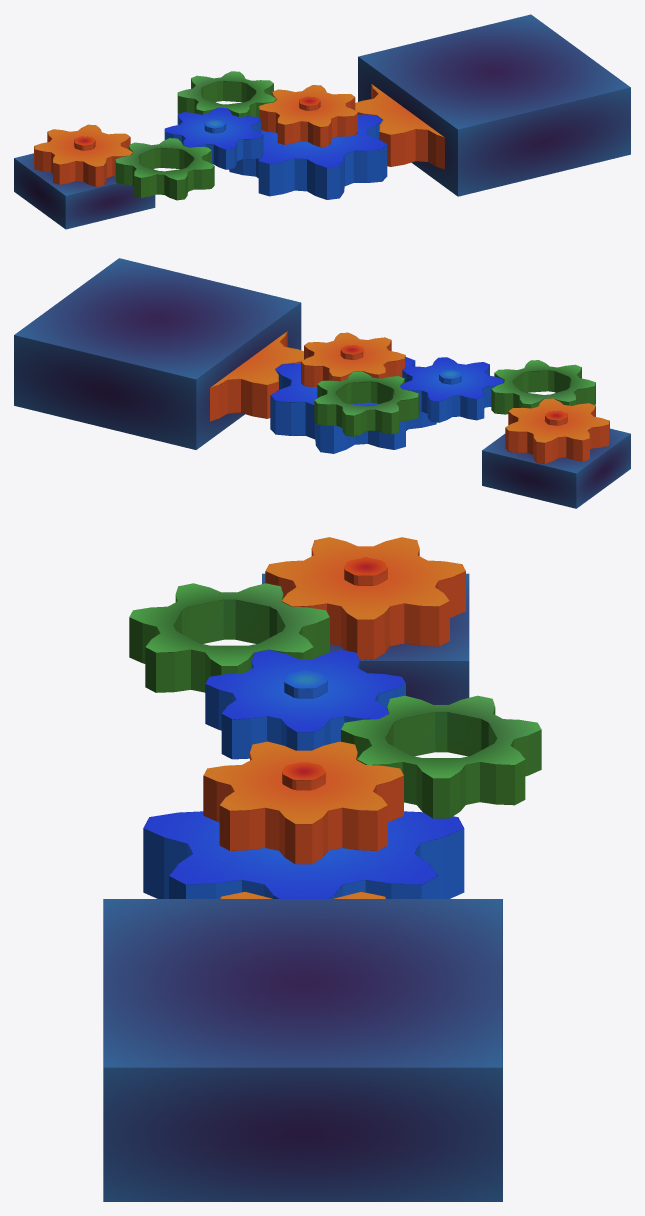
The model's file is gear_scene2.gltf.
The picture shows the model from 3 angles, top to bottom: view 1: azimuth 30°, elevation 25°; view 2: azimuth 150°, elevation 25°; view 3: azimuth 270°, elevation 25°; orthographic projection. The views are drawn at different scales.
Visible parts, largest first — view 1: box_input, gear6_r, box_output, gear5_r, gear2_l, gear1_r, gear3_r, gear7_l, gear4_l; view 2: box_input, box_output, gear1_r, gear4_l, gear6_r, gear3_r, gear7_l, gear5_r, gear2_l; view 3: box_input, gear6_r, gear5_r, gear1_r, gear4_l, gear2_l, gear3_r, box_output.
Boxes of the visible parts, x1,y1,x2,y2 form: box_input: [358, 14, 630, 196]; gear6_r: [229, 114, 387, 199]; box_output: [14, 153, 155, 229]; gear5_r: [259, 85, 357, 147]; gear2_l: [115, 138, 214, 200]; gear1_r: [34, 124, 133, 186]; gear3_r: [164, 107, 263, 169]; gear7_l: [355, 84, 444, 169]; gear4_l: [177, 71, 276, 117]; box_input: [14, 258, 301, 449]; box_output: [482, 428, 630, 508]; gear1_r: [505, 398, 609, 463]; gear4_l: [314, 371, 418, 436]; gear6_r: [270, 357, 436, 453]; gear3_r: [400, 357, 503, 422]; gear7_l: [210, 331, 303, 421]; gear5_r: [301, 332, 405, 386]; gear2_l: [491, 360, 595, 414]; box_input: [103, 899, 502, 1201]; gear6_r: [143, 811, 464, 898]; gear5_r: [203, 741, 403, 864]; gear1_r: [265, 537, 465, 659]; gear4_l: [341, 695, 541, 818]; gear2_l: [129, 583, 329, 692]; gear3_r: [205, 650, 405, 759]; box_output: [262, 573, 469, 704].
Bounding box in the file's own units: 16.41 × 2.47 × 5.92.
Materials: 4 (4 with a texture image).
